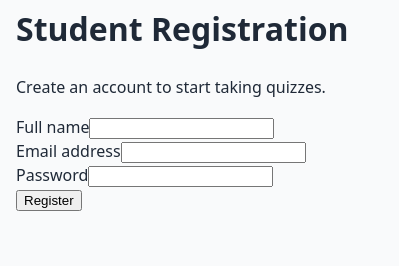
Scenario: OQS-04: Registration page › shows a connection message when the server cannot be reached
This screenshot has width=399, height=266.
Type "Asha Rao" into the field labelled "Full name" at coordinates (182, 128), box [90,118,274,139]
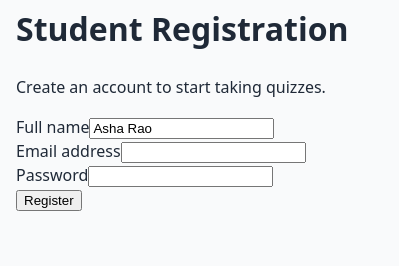
Type "asha@example.com" into the field labelled "Email address" at coordinates (213, 152), box [120,142,306,163]
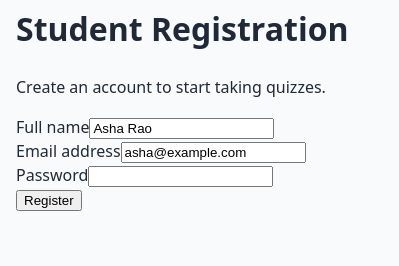
Type "SecurePass123" into the password field labelled "Password" at coordinates (181, 176), box [88,166,273,187]
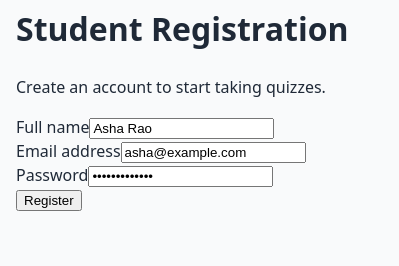
Click the button "Register" at coordinates (49, 200), box [16,190,82,211]
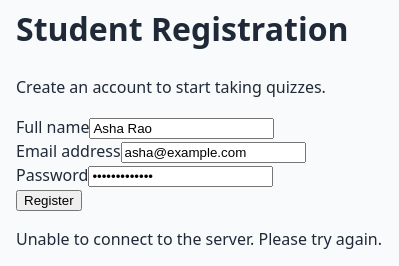
Expected: the message shows "Unable to connect", [16,228,382,250]
